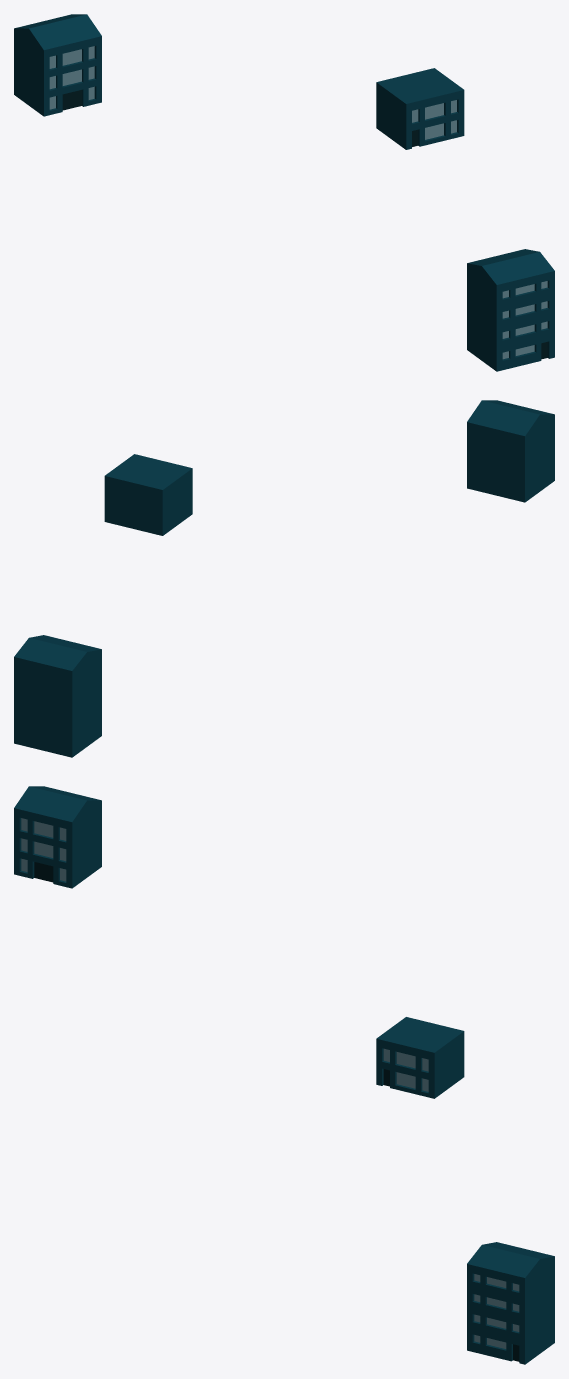
Rendered from BinaGrup10.gltf.
The picture shows the model from 3 angles, top to bottom: view 1: azimuth 30°, elevation 25°; view 2: azimuth 150°, elevation 25°; view 3: azimuth 330°, elevation 25°; orthographic projection.
Parts seen in each view (by area): view 1: Building_061.011, Building_023.011, Building_052.011, Building_023.012, Building_061.012, Building_052.012; view 2: Building_061.011, Building_023.011, Building_052.011; view 3: Building_061.011, Building_023.011, Building_052.011, Building_023.012, Building_061.012, Building_052.012.
Boxes of the visible parts, box(x1,y1,x2,y2) form: Building_061.011: box(467, 249, 554, 371); Building_023.011: box(14, 14, 101, 116); Building_052.011: box(376, 68, 464, 149); Building_023.012: box(49, 46, 94, 109); Building_061.012: box(502, 281, 547, 359); Building_052.012: box(412, 100, 456, 139); Building_061.011: box(14, 635, 101, 757); Building_023.011: box(467, 400, 554, 502); Building_052.011: box(104, 454, 192, 535); Building_061.011: box(467, 1242, 554, 1364); Building_023.011: box(14, 786, 101, 888); Building_052.011: box(376, 1017, 464, 1098); Building_023.012: box(21, 818, 66, 881); Building_061.012: box(474, 1274, 519, 1348); Building_052.012: box(383, 1048, 428, 1091).
Size of the model in its own units: 0.4293 by 0.3554 by 0.0435.
